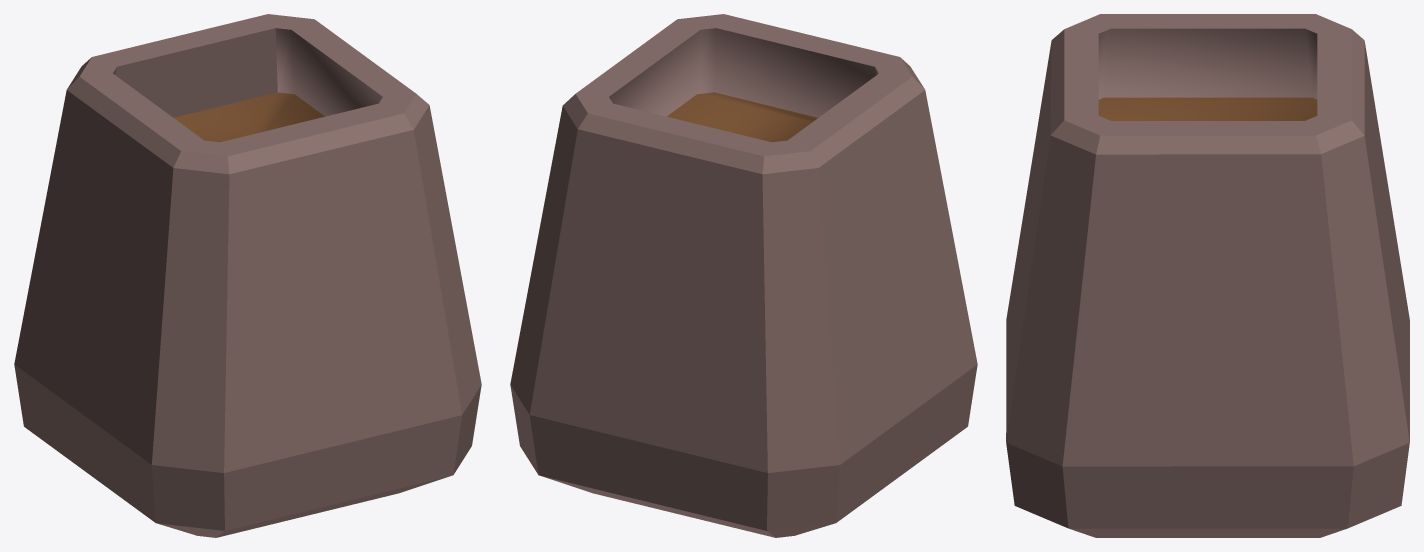
Rendered from flower_pot_small2.fbx.
3 views of the same model, side by side, from view 1: azimuth 30°, elevation 25°; view 2: azimuth 150°, elevation 25°; view 3: azimuth 270°, elevation 25° (orthographic). The views are drawn at different scales.
Parts seen in each view (by area): view 1: flower_pot_small2; view 2: flower_pot_small2; view 3: flower_pot_small2.
Boxes of the visible parts, x1,y1,x2,y2 form: flower_pot_small2: (14,14,481,537); flower_pot_small2: (510,14,977,537); flower_pot_small2: (1006,14,1409,537).
Bounding box in the file's own units: 44.65 × 44.65 × 50.
